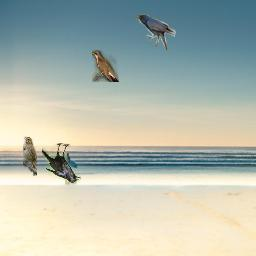Crow: (42, 143, 81, 183), (136, 14, 176, 51)
Cuckoo: (92, 50, 119, 82)
Sparrow: (23, 136, 37, 176)
